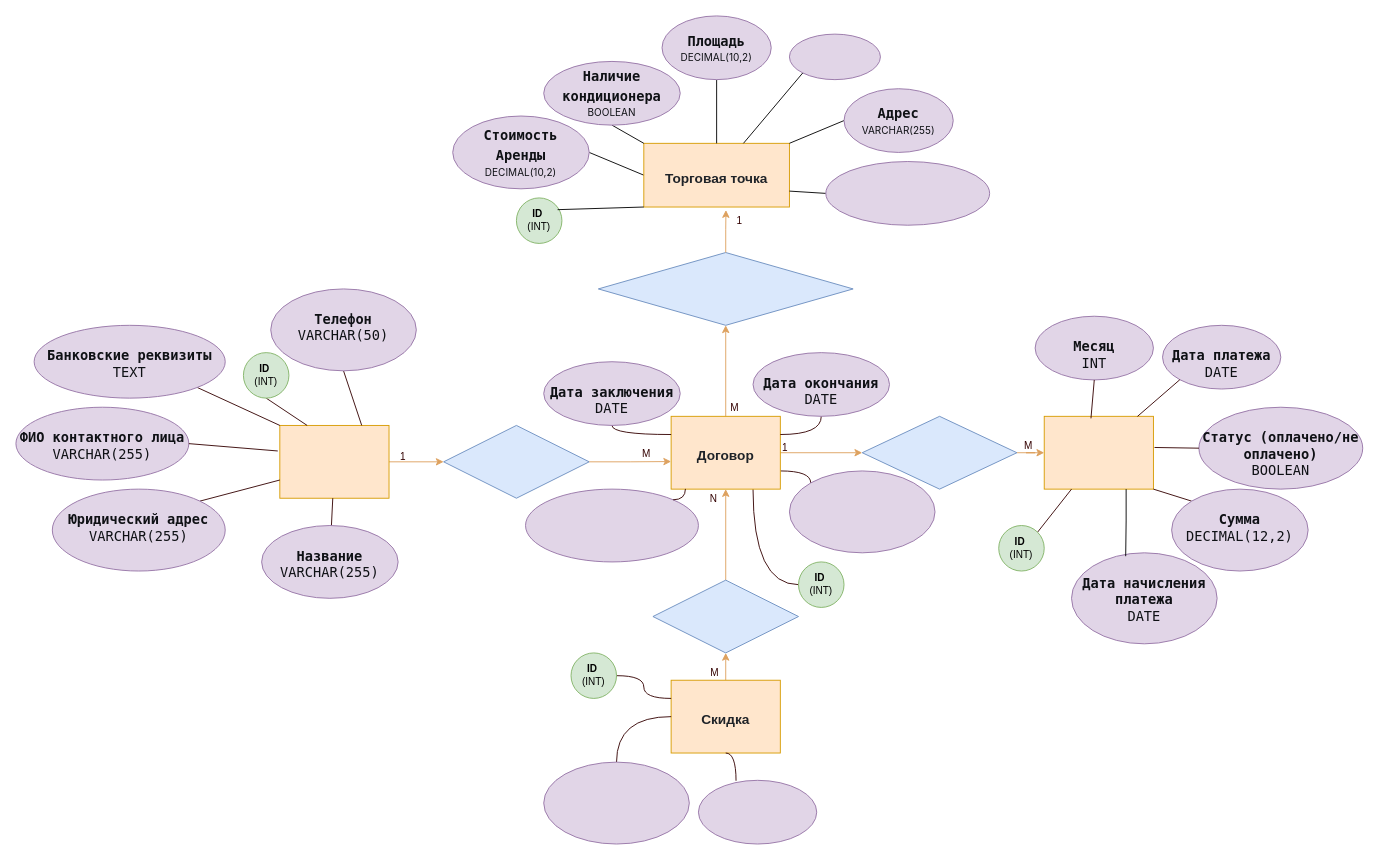
This 1379x860 diagram has some shape labels left out. Here are the shapes that lost their labels. From the top down, the centre of each, then its label:
At point (834, 56): "Этаж INT".
At point (907, 193): "Статус (свободна,занята) BOOLEAN".
At point (725, 288): "описывает условия аренды".
At point (334, 461): "Клиент".
At point (516, 461): "заключает".
At point (939, 452): "определяет".
At point (1098, 452): "Платеж".
At point (611, 525): "Финальная стоимость DECIMAL(10,2)".
At point (862, 511): "Номер договора VARCHAR(100)".
At point (725, 616): "возможна в".
At point (616, 802): "Название VARCHAR(255) )".
At point (757, 811): "Размер INT".
